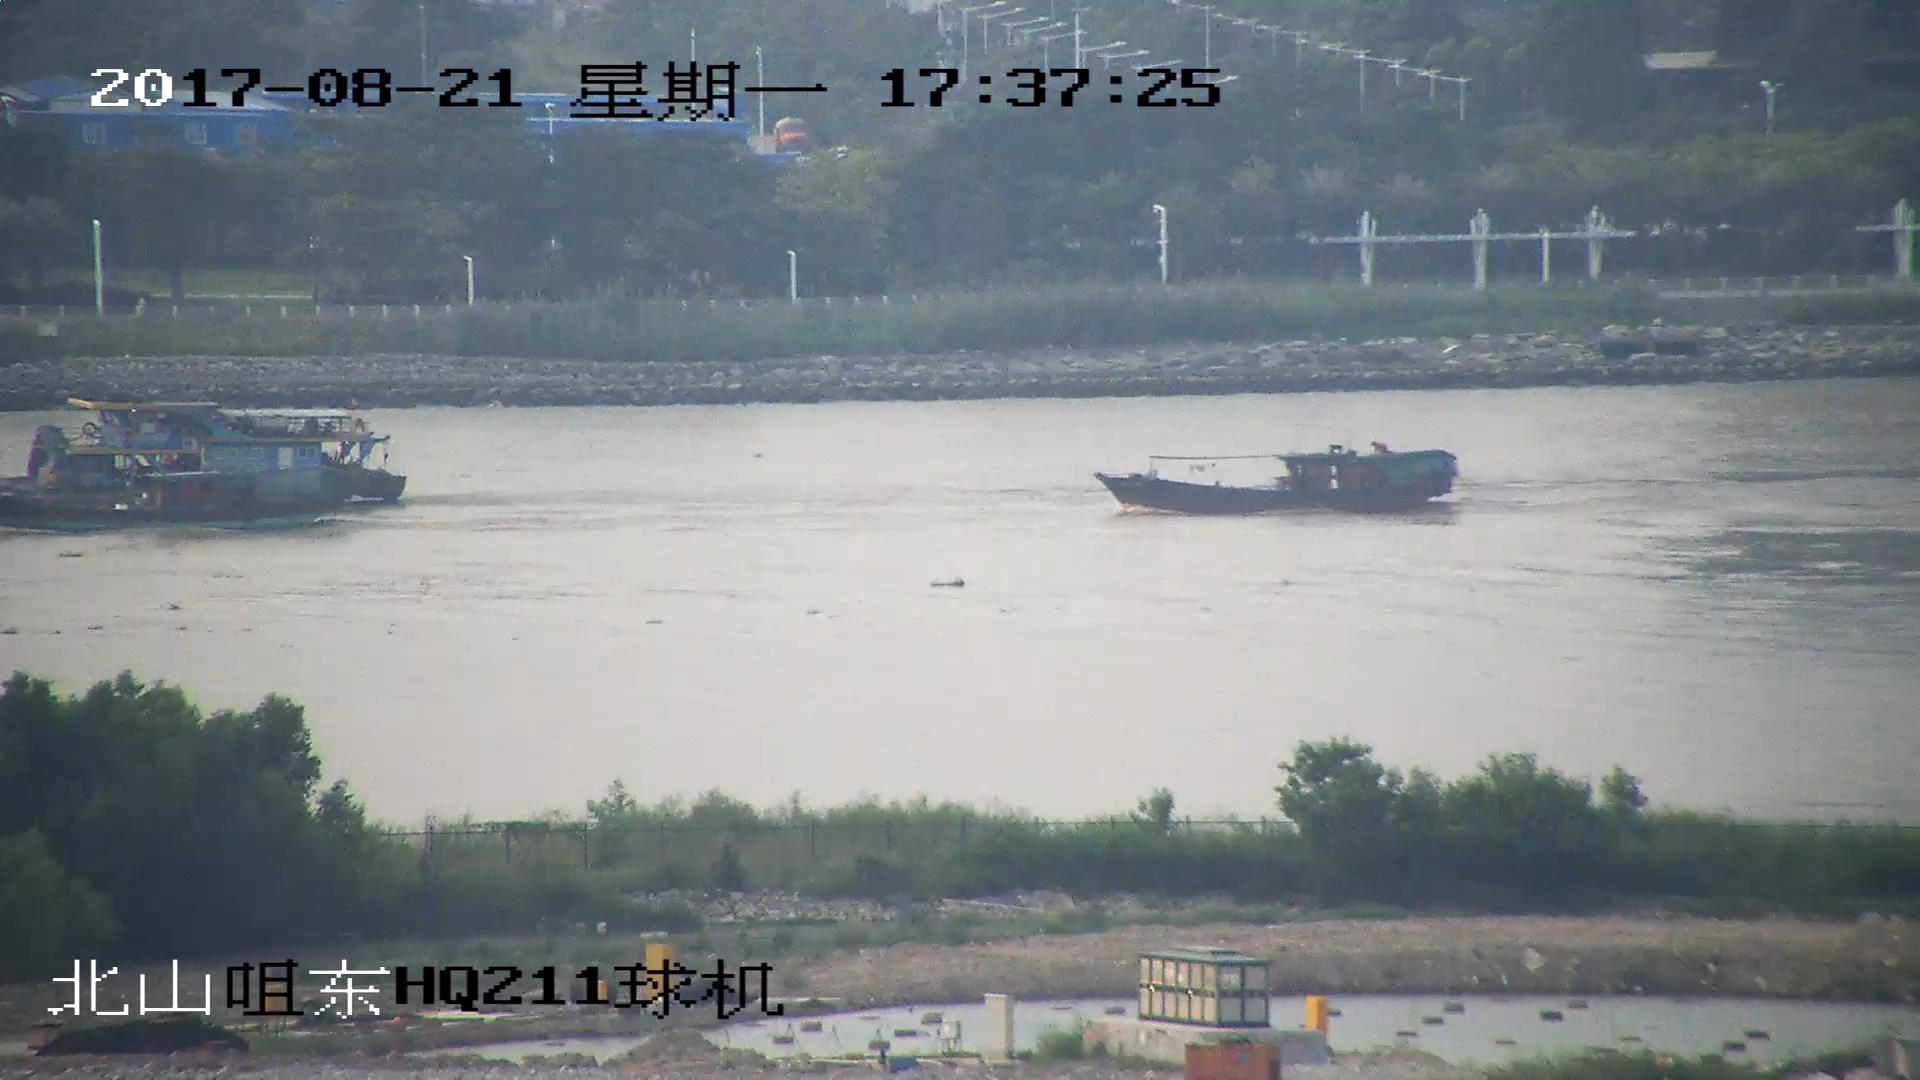fishing boat: (1, 402, 368, 526), (1093, 440, 1462, 515)
